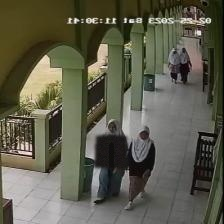Cadar_Niqab: (94, 118, 128, 167)
